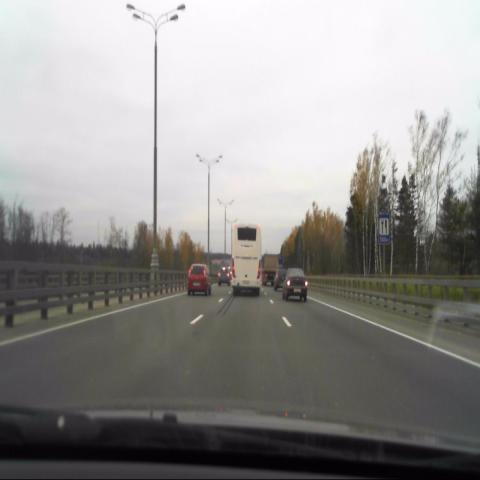7_7: (378, 213, 388, 244)
